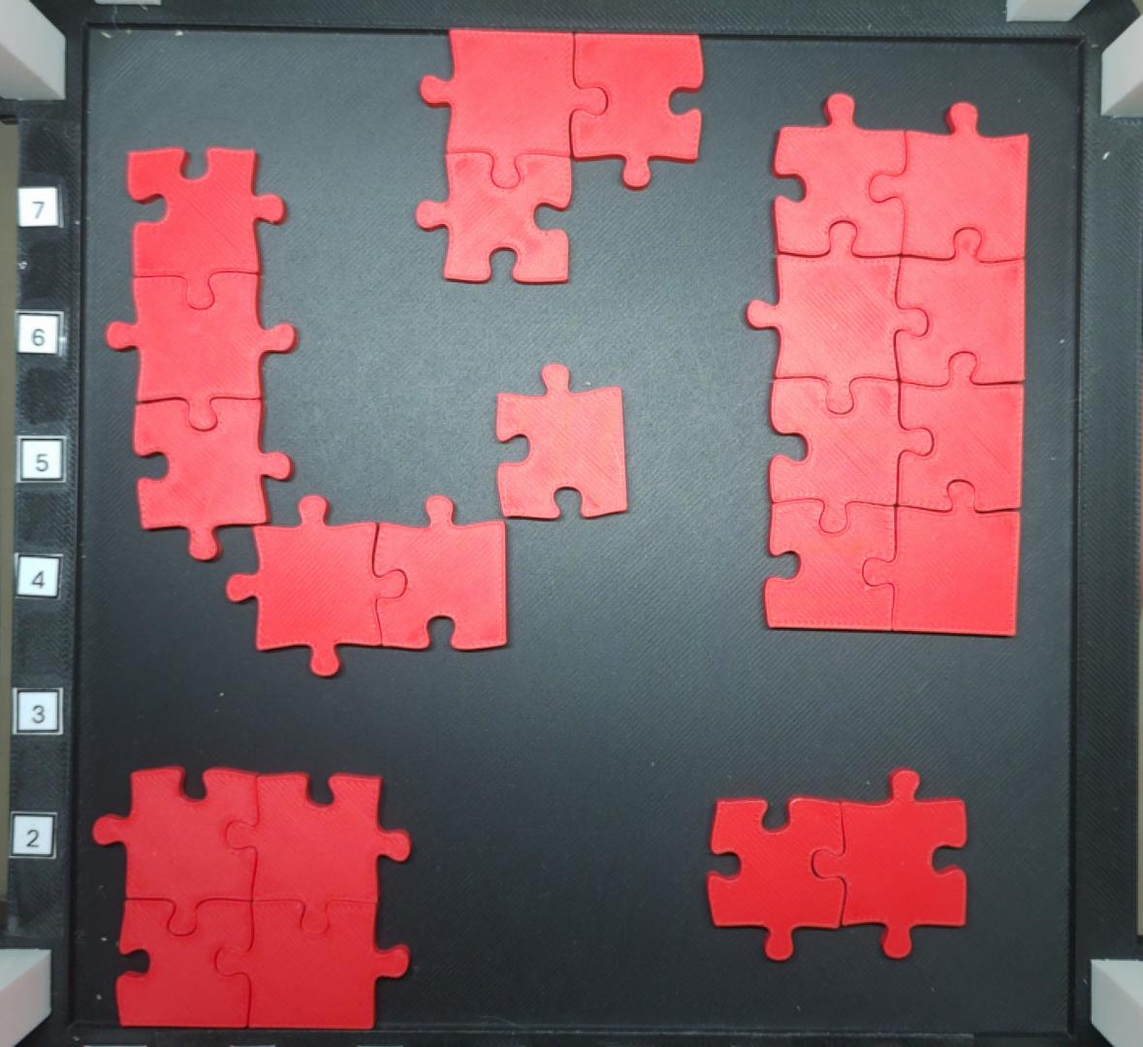p_1: (493, 363, 627, 524)
p_2: (227, 495, 513, 679), (702, 768, 970, 964)
p_3: (104, 146, 300, 562), (415, 28, 704, 287)
p_4: (88, 765, 410, 1030)
p_m: (745, 92, 1030, 640)
